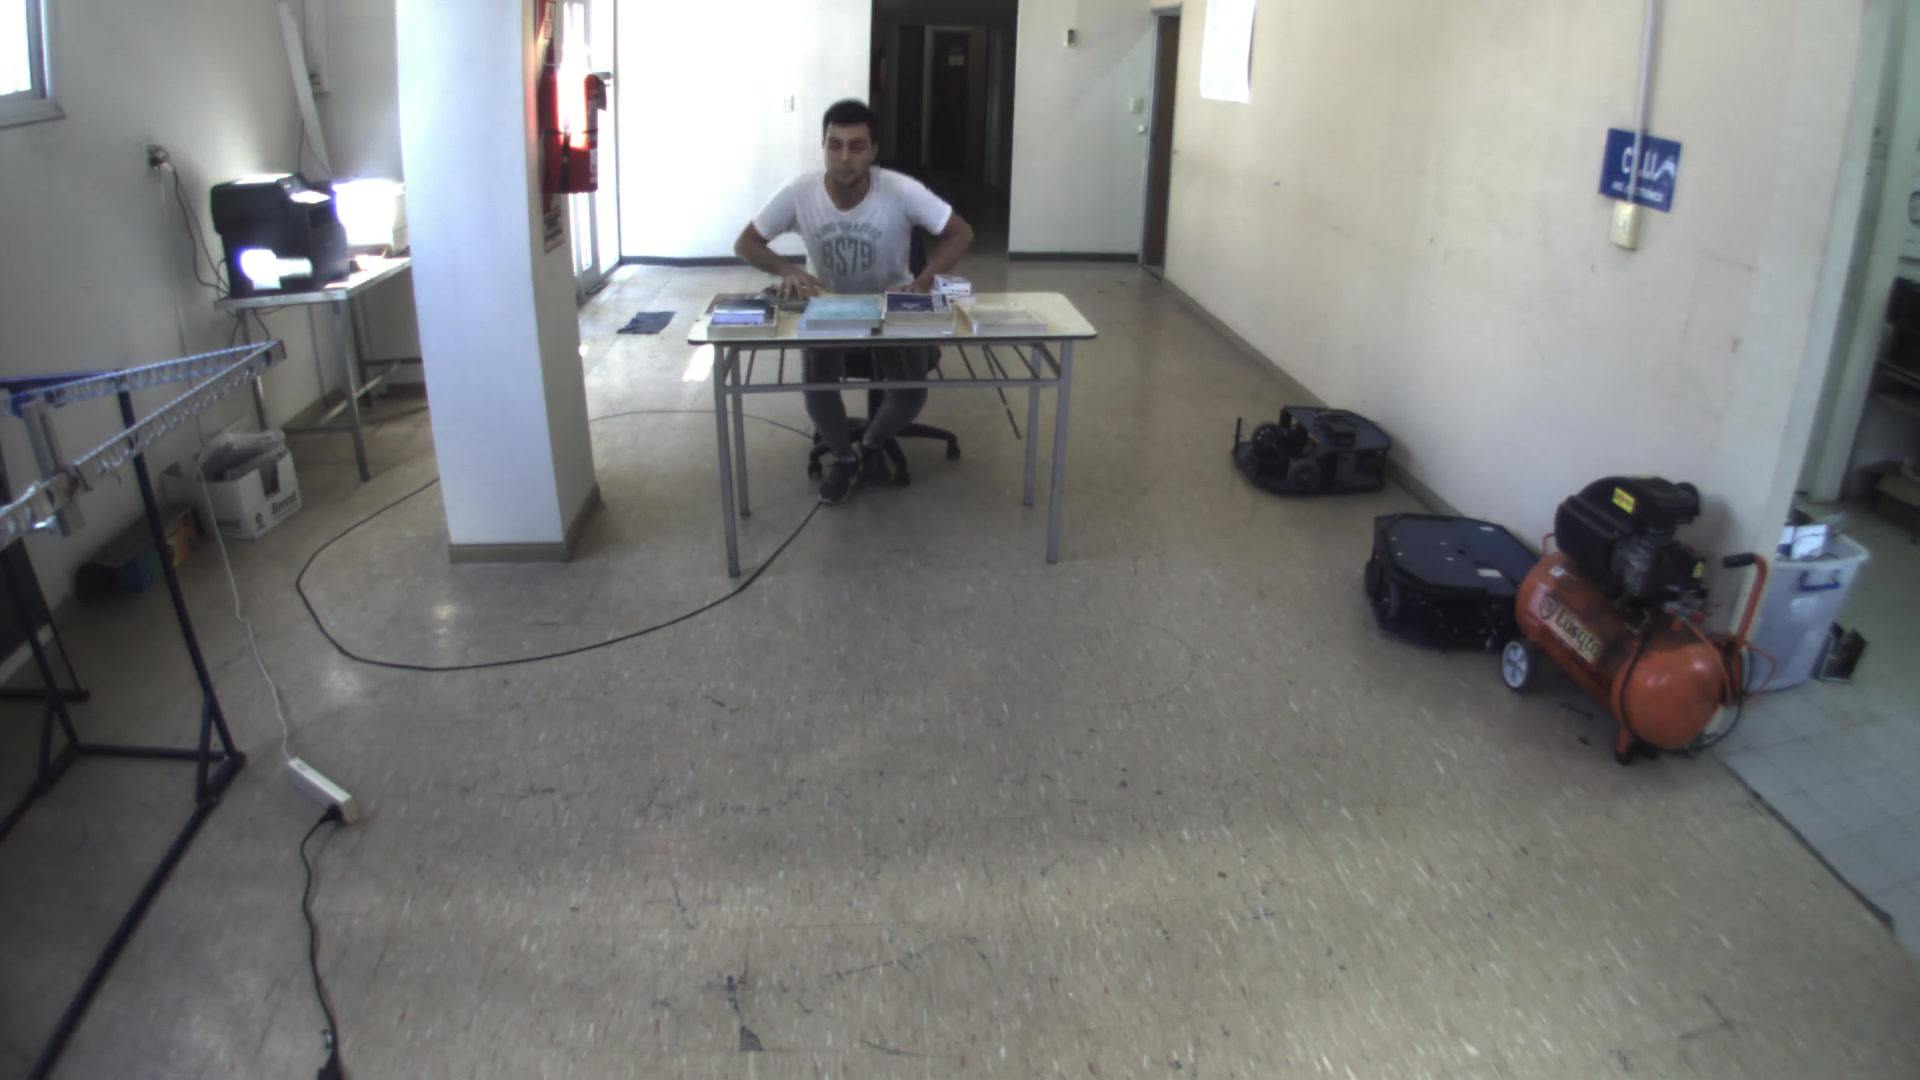hand: (770, 268, 837, 297)
